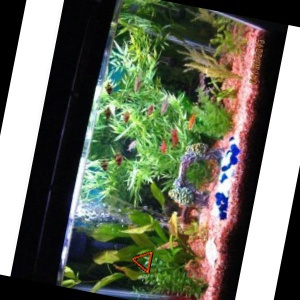triangle: (131, 249, 154, 275)
